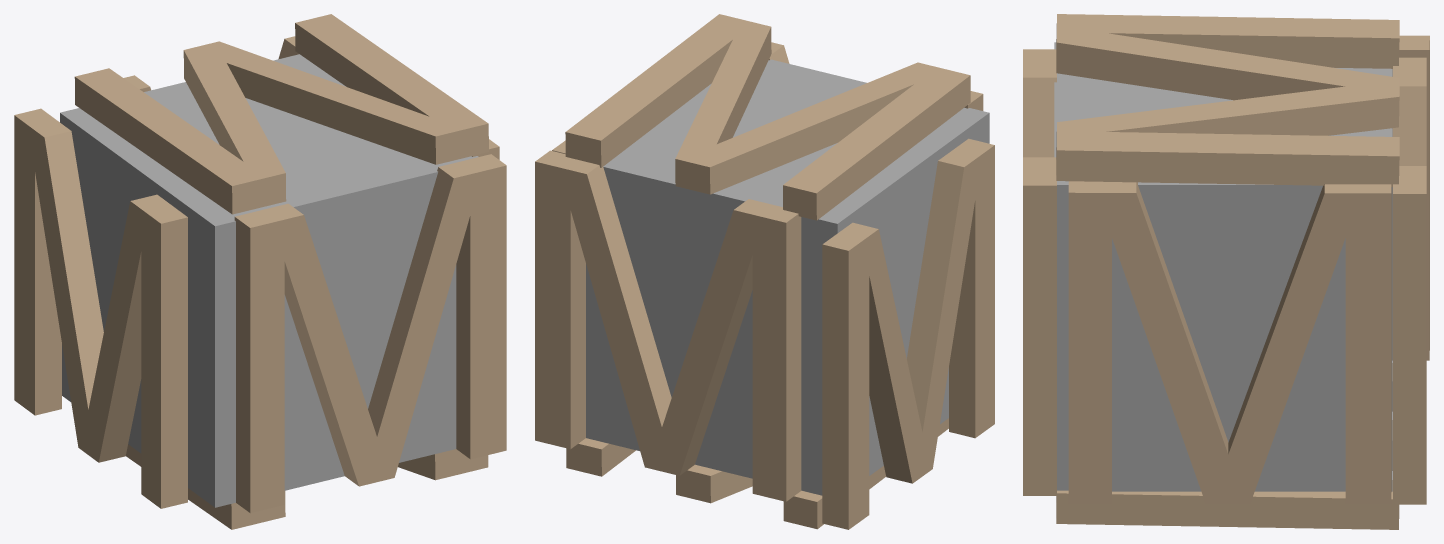
Rendered from LetterM.fbx.
3 views of the same model, side by side, from view 1: azimuth 30°, elevation 25°; view 2: azimuth 150°, elevation 25°; view 3: azimuth 270°, elevation 25° (orthographic). The views are drawn at different scales.
Visible parts, largest first — view 1: Box, Text Front, Text Left, Text Top, Text Bottom; view 2: Box, Text Back, Text Left, Text Top, Text Bottom, Text Front; view 3: Box, Text Right, Text Top, Text Front, Text Back, Text Bottom, Text Left.
Part boxes in pixels (x1=…): Box: x1=60, y1=54, x2=478, y2=507; Text Front: x1=234, y1=154, x2=506, y2=512; Text Left: x1=14, y1=108, x2=187, y2=508; Text Top: x1=74, y1=14, x2=488, y2=214; Text Bottom: x1=126, y1=444, x2=488, y2=529; Box: x1=586, y1=59, x2=989, y2=495; Text Back: x1=535, y1=150, x2=801, y2=501; Text Left: x1=822, y1=138, x2=994, y2=529; Text Top: x1=565, y1=14, x2=970, y2=220; Text Bottom: x1=566, y1=418, x2=948, y2=529; Text Front: x1=769, y1=42, x2=983, y2=110; Box: x1=1054, y1=42, x2=1392, y2=491; Text Right: x1=1068, y1=181, x2=1391, y2=503; Text Top: x1=1056, y1=14, x2=1399, y2=186; Text Front: x1=1023, y1=49, x2=1056, y2=495; Text Back: x1=1393, y1=57, x2=1426, y2=504; Text Bottom: x1=1056, y1=363, x2=1399, y2=529; Text Left: x1=1392, y1=35, x2=1429, y2=360.
Bounding box in the file's own units: 1.2 × 1.24 × 1.2.
